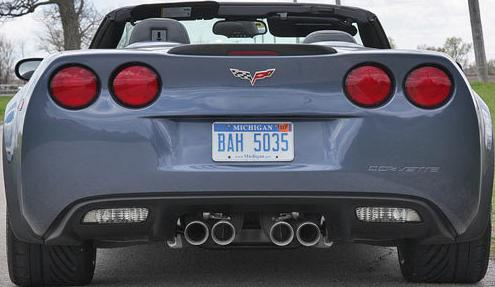back_view: (9, 53, 495, 252)
backlight: (39, 62, 168, 113)
